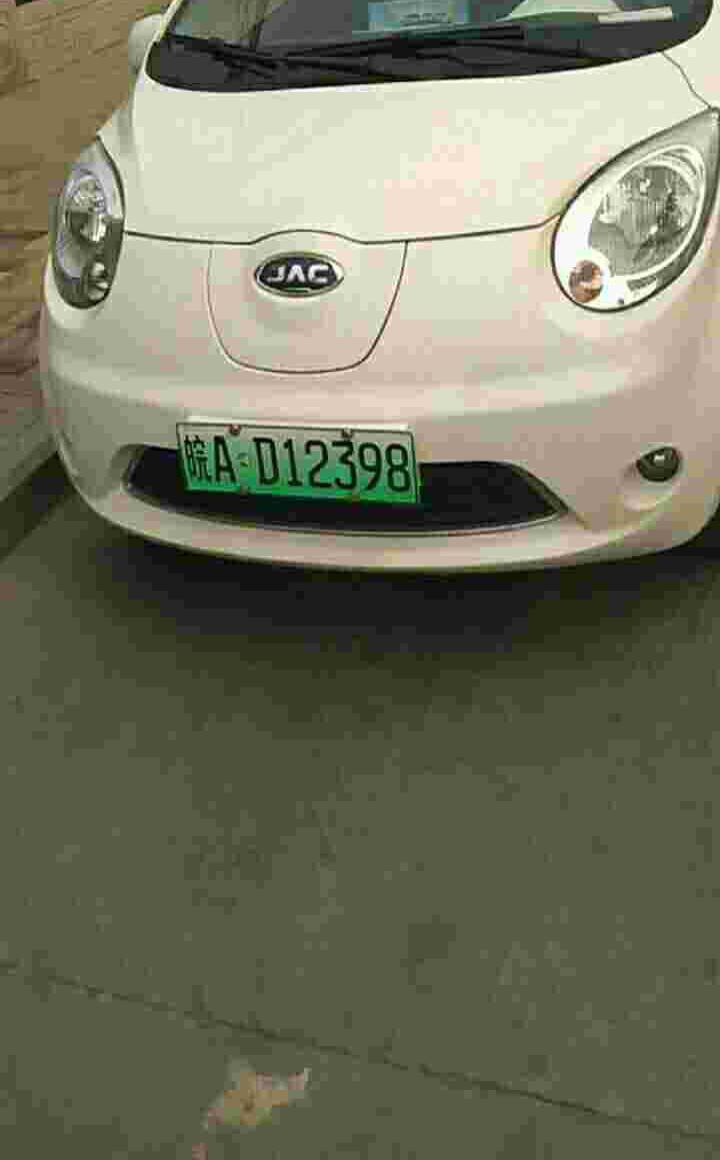car_id: (175, 422, 418, 503)
